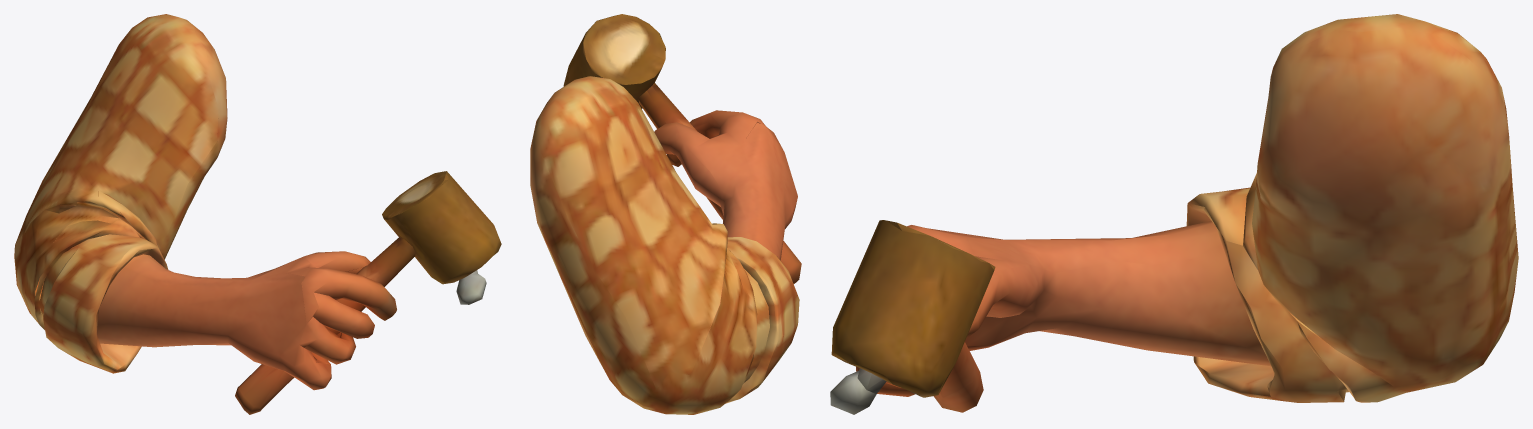
The model's file is brazoMartilloArtesano.obj.
The picture shows the model from 3 angles, left to right: view 1: azimuth 30°, elevation 25°; view 2: azimuth 150°, elevation 25°; view 3: azimuth 270°, elevation 25°; orthographic projection. The views are drawn at different scales.
Visible parts, largest first — view 1: brazoMartilloArtesano; view 2: brazoMartilloArtesano; view 3: brazoMartilloArtesano.
Part boxes in pixels (x1=…): brazoMartilloArtesano: x1=14, y1=14, x2=501, y2=414; brazoMartilloArtesano: x1=530, y1=14, x2=801, y2=414; brazoMartilloArtesano: x1=830, y1=14, x2=1518, y2=414.
Size of the model in its own units: 0.4271 by 0.3609 by 0.4965.
1 material, 1 textured.
